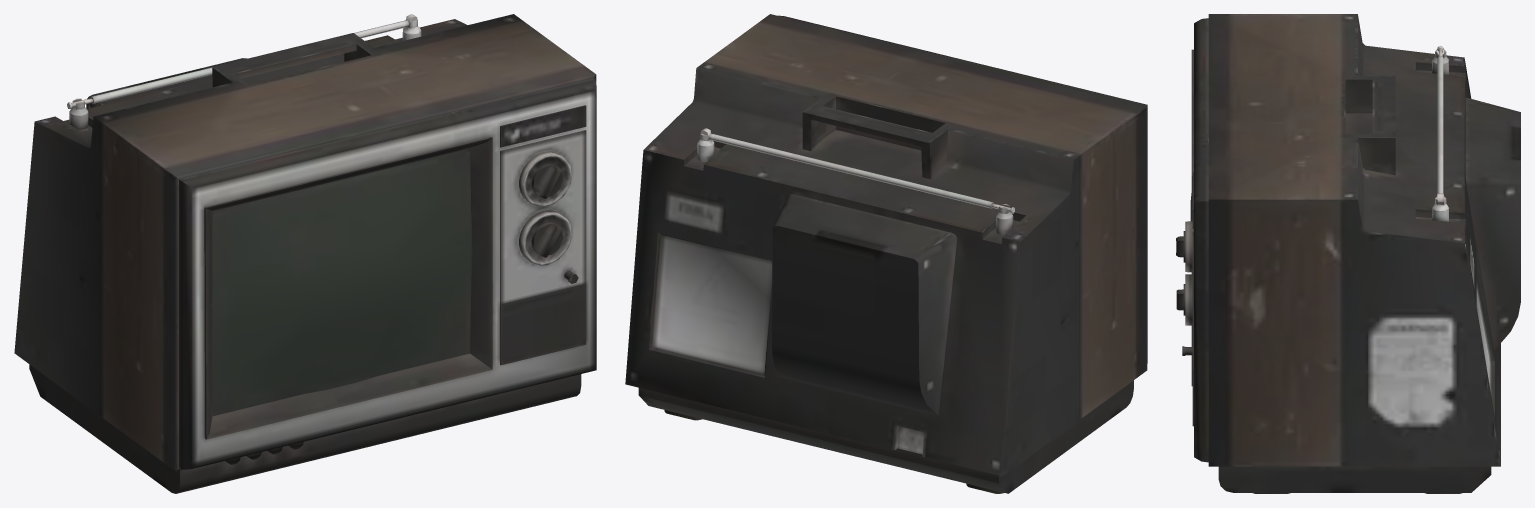
3 renders of one model, left to right at view 1: azimuth 30°, elevation 25°; view 2: azimuth 150°, elevation 25°; view 3: azimuth 270°, elevation 25°, orthographic. The views are drawn at different scales.
Visible parts, largest first — view 1: Television_01; view 2: Television_01; view 3: Television_01.
Part boxes in pixels (x1=…): Television_01: x1=14, y1=14, x2=596, y2=493; Television_01: x1=625, y1=14, x2=1147, y2=493; Television_01: x1=1176, y1=14, x2=1520, y2=493.
Size of the model in its own units: 0.6 by 0.4569 by 0.4708.
1 material, 1 textured.
